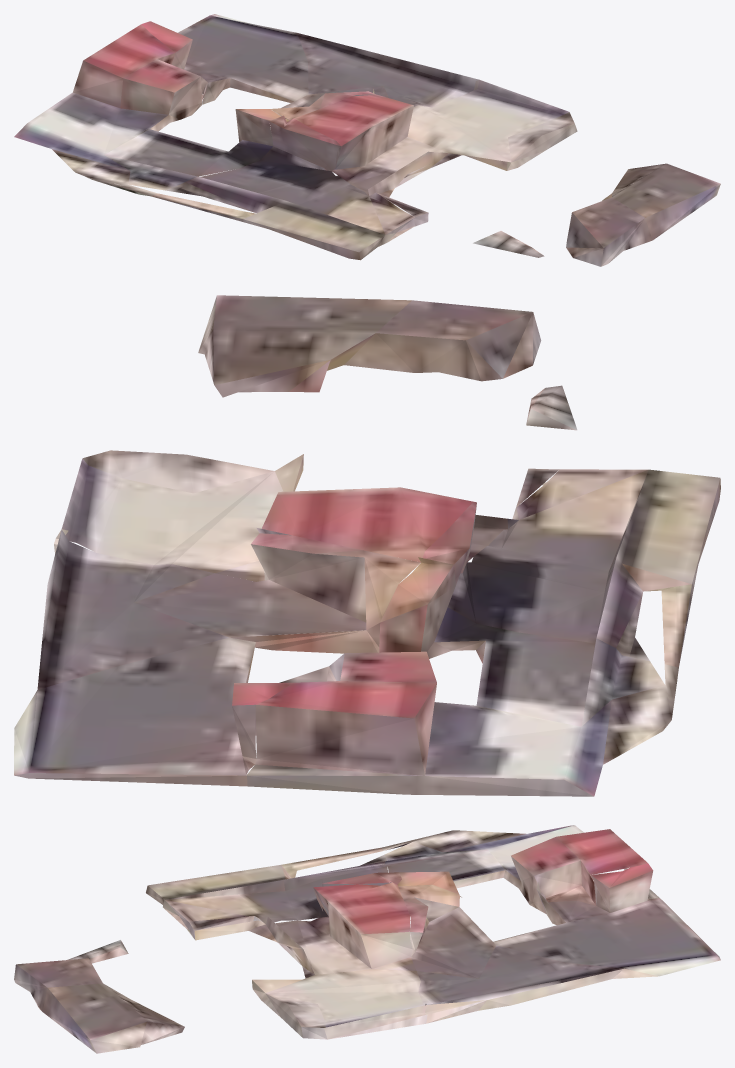
3 renders of one model, top to bottom at view 1: azimuth 30°, elevation 25°; view 2: azimuth 150°, elevation 25°; view 3: azimuth 270°, elevation 25°, orthographic. The views are drawn at different scales.
Visible parts, largest first — view 1: Mesh_0; view 2: Mesh_0; view 3: Mesh_0.
Part boxes in pixels (x1,y1,x2,y2): Mesh_0: (14, 14, 720, 266); Mesh_0: (14, 295, 720, 796); Mesh_0: (14, 825, 720, 1053).
Size of the model in its own units: 36.1 by 3.53 by 47.14.
1 material, 1 textured.
